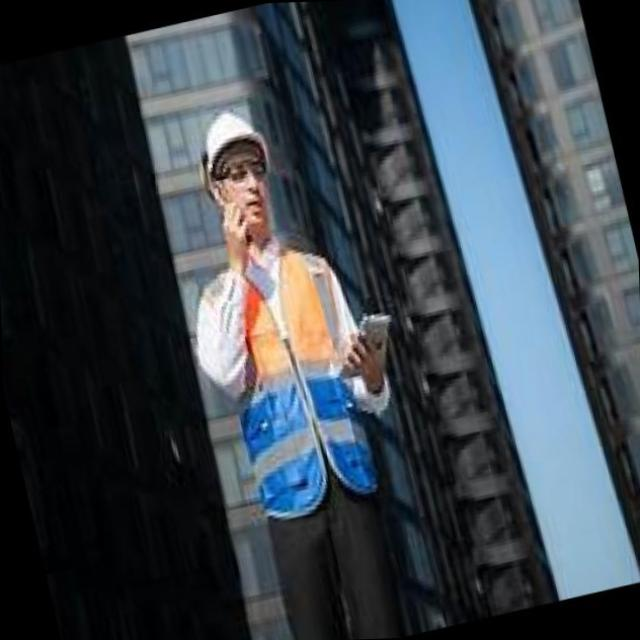not-gloved: (336, 314, 389, 390), (210, 200, 256, 268)
